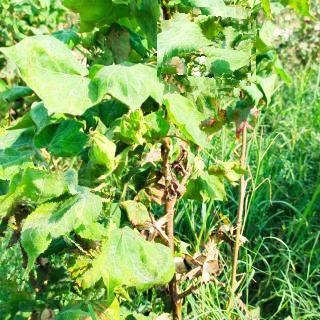curl: (0, 171, 110, 300), (163, 7, 251, 94)
